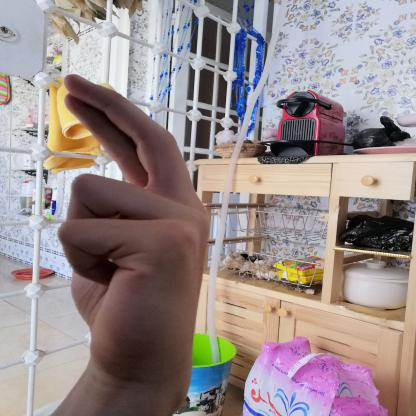ZAY: (47, 66, 221, 395)
